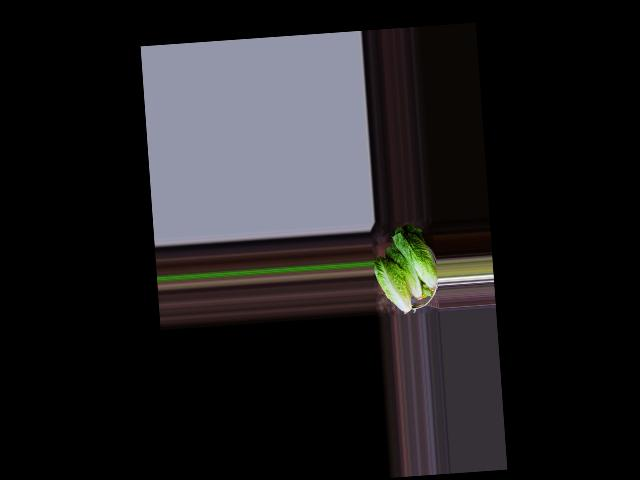lettuce: (390, 224, 439, 298)
